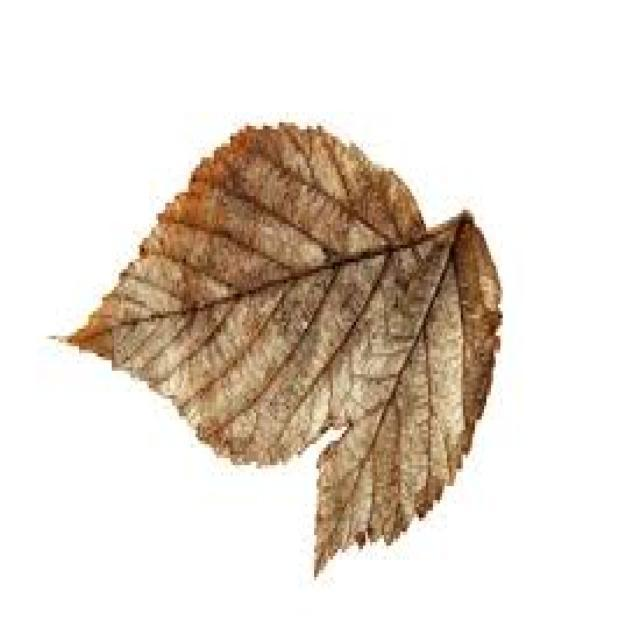leaf: (48, 120, 504, 577)
